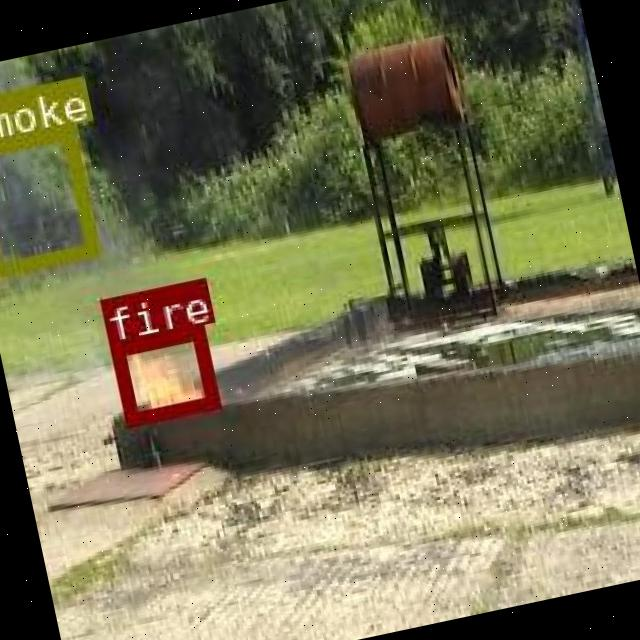fire: (107, 324, 216, 426)
smoke: (0, 124, 97, 275)
